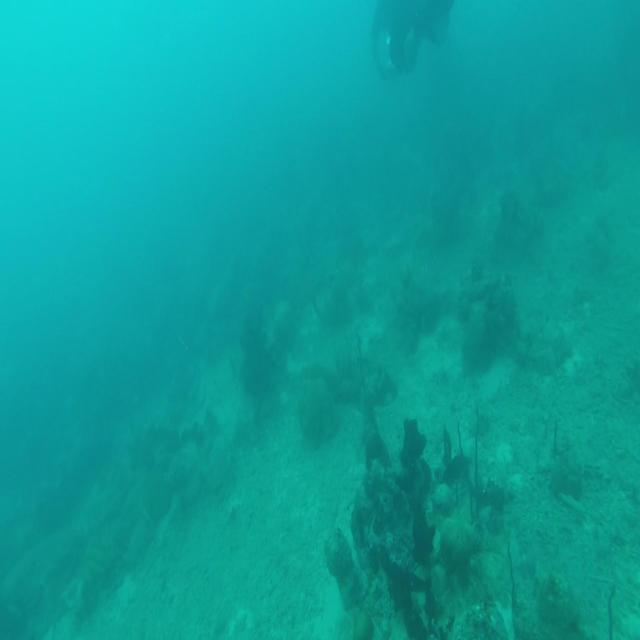human: (370, 0, 454, 79)
